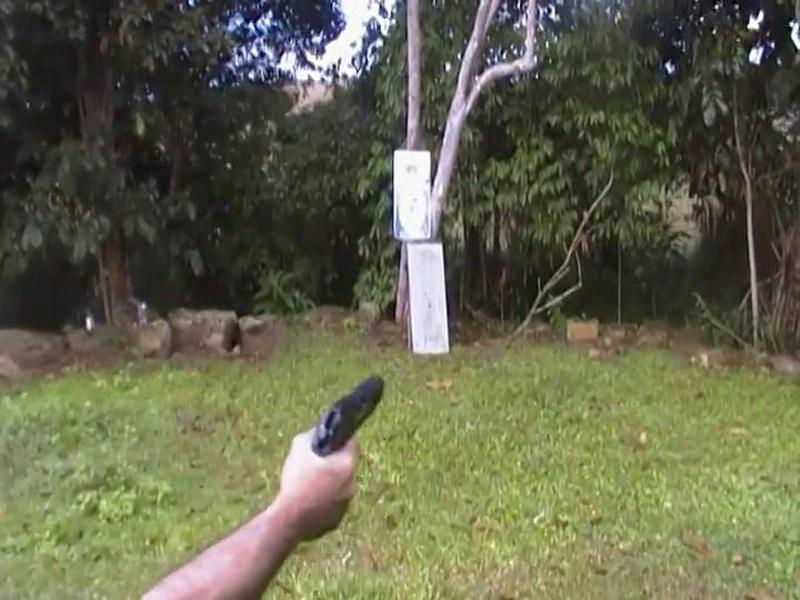Pistola: (290, 360, 428, 484)
